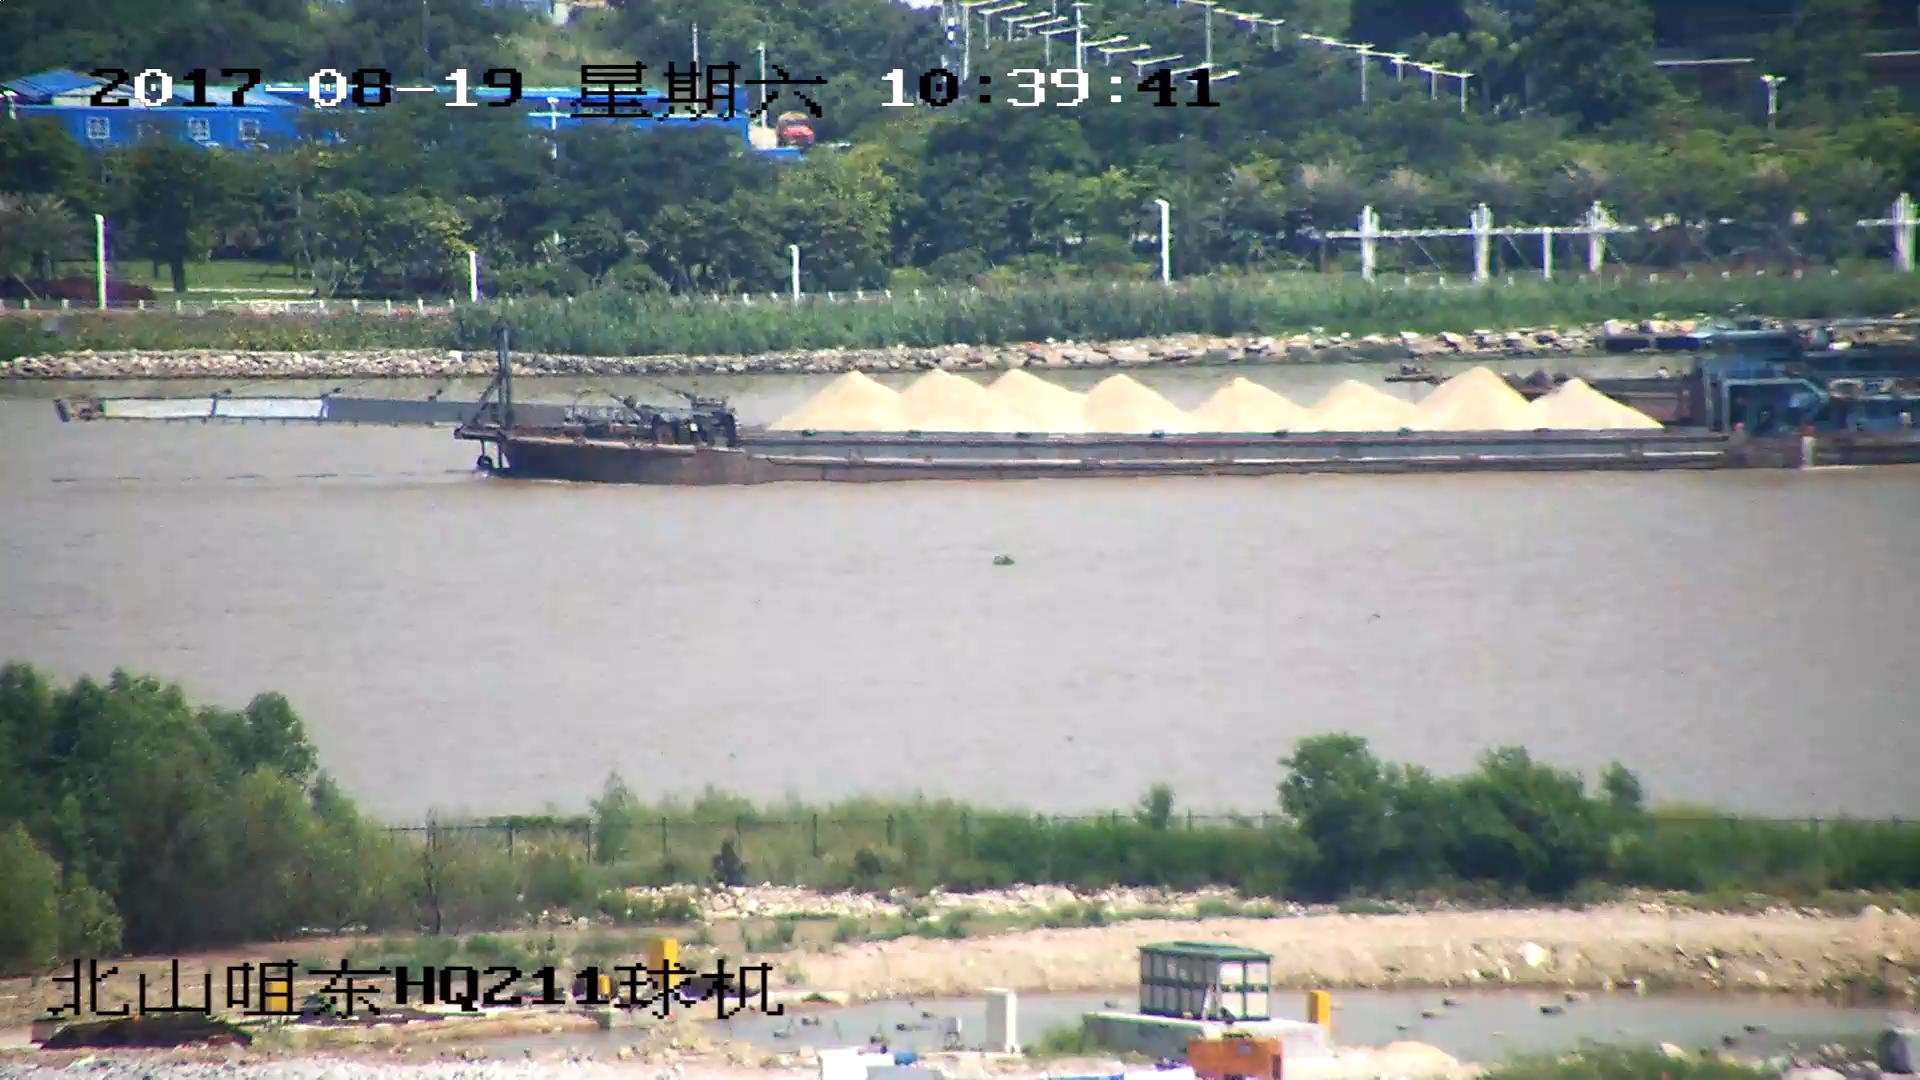ore carrier: (51, 319, 1920, 484)
